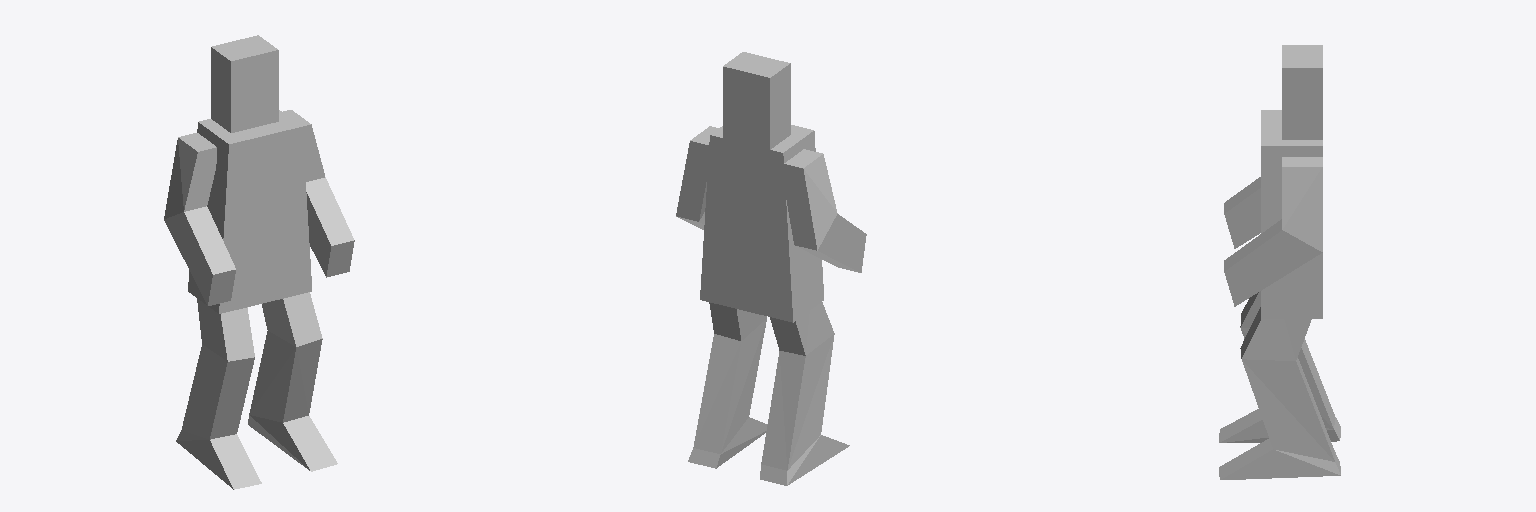
File: human.obj
3 renders of one model, left to right at view 1: azimuth 30°, elevation 25°; view 2: azimuth 150°, elevation 25°; view 3: azimuth 270°, elevation 25°, orthographic.
Visible parts, largest first — view 1: Box011; view 2: Box011; view 3: Box011.
Part boxes in pixels (bbox=[...]): Box011: bbox=[164, 35, 354, 489]; Box011: bbox=[676, 52, 866, 485]; Box011: bbox=[1219, 45, 1340, 479].
Size of the model in its own units: 3.4 by 9.14 by 2.55.